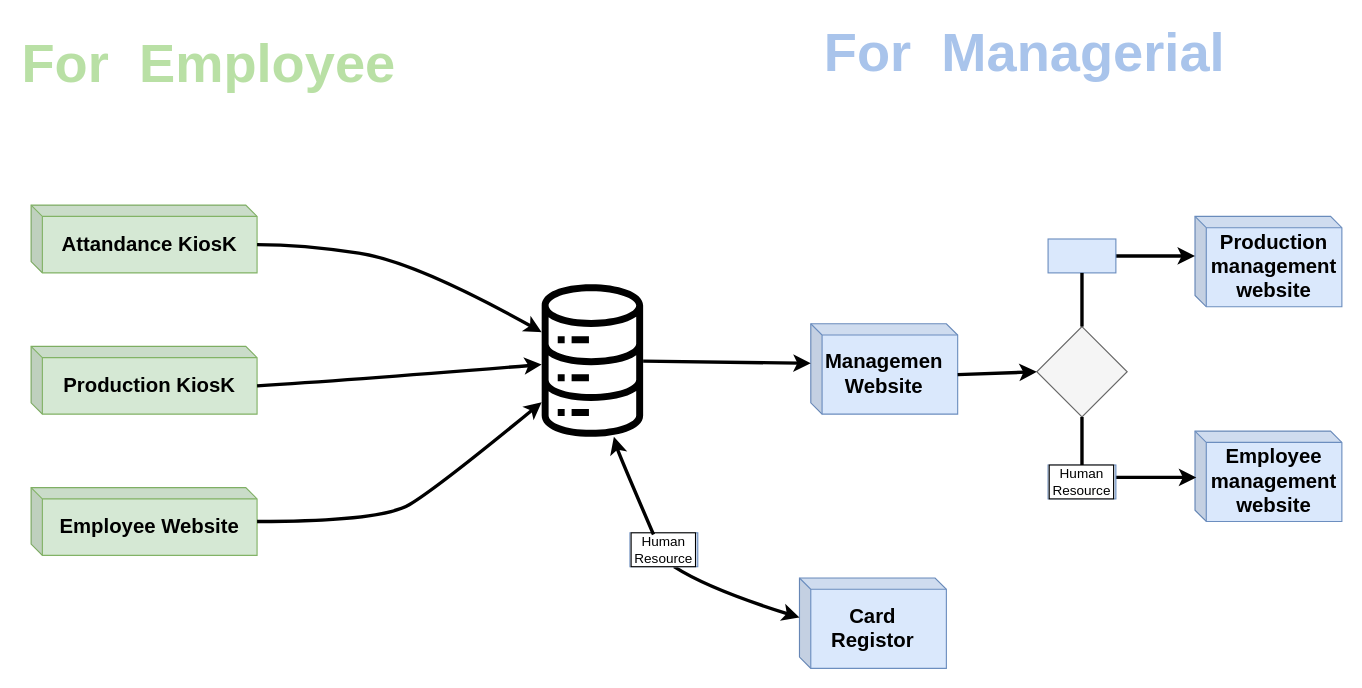
This 1362x688 diagram has some shape labels left out. The shapes that lost their labels are listed below. From the top down, each one's box as (x1, y1, x2, y2) in pixels, then its label:
(1047, 238, 1116, 273): Production Manager
(1036, 325, 1127, 417): Check Accsess
